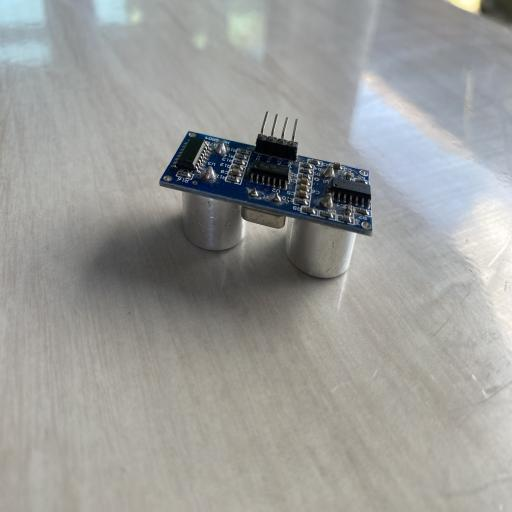Ultrasonic Sensor: (158, 111, 374, 280)
